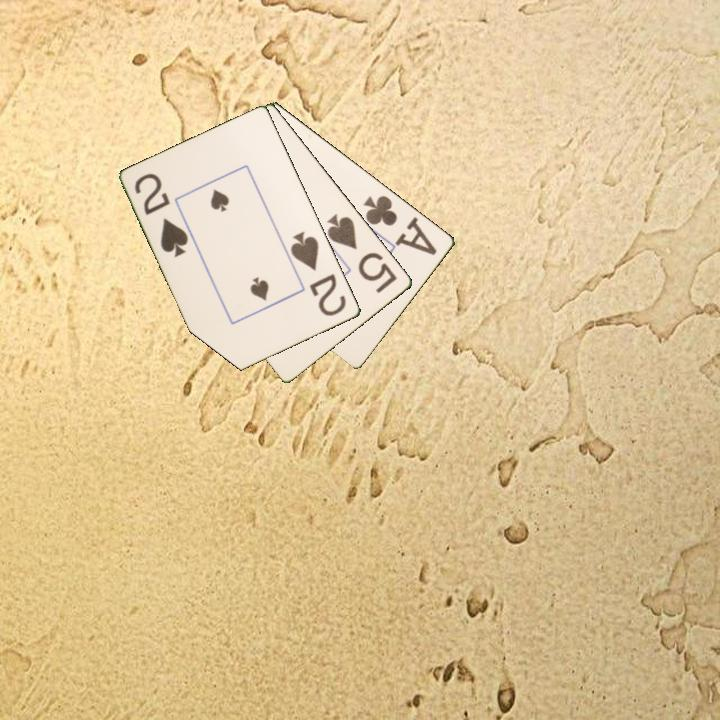2s: (287, 228, 349, 319), (131, 170, 192, 260)
5s: (324, 210, 401, 296)
Ac: (360, 192, 440, 259)
